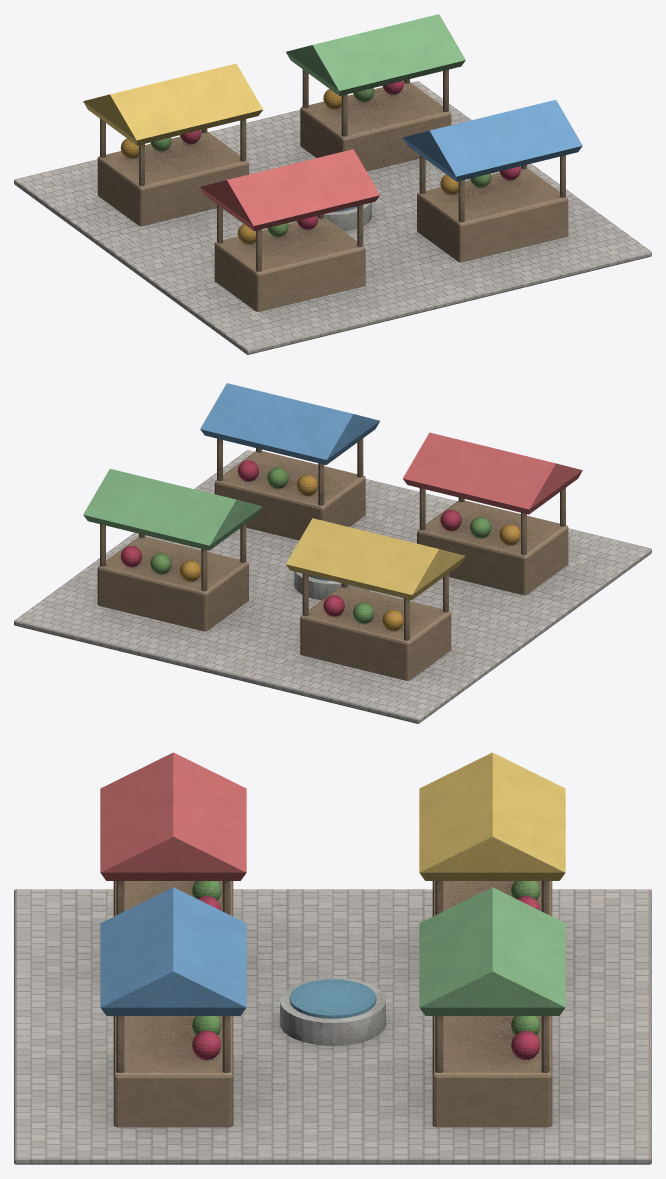
Rendered from marktplatz.glb.
3 renders of one model, top to bottom at view 1: azimuth 30°, elevation 25°; view 2: azimuth 150°, elevation 25°; view 3: azimuth 270°, elevation 25°, orthographic. The views are drawn at different scales.
Parts seen in each view (by area): view 1: marktplatz; view 2: marktplatz; view 3: marktplatz.
Boxes of the visible parts, x1,y1,x2,y2 form: marktplatz: (14, 14, 651, 354); marktplatz: (14, 383, 651, 723); marktplatz: (14, 752, 651, 1164).
Bounding box in the file's own units: 0.96 × 0.28 × 0.96.
Materials: 1 (1 with a texture image).
